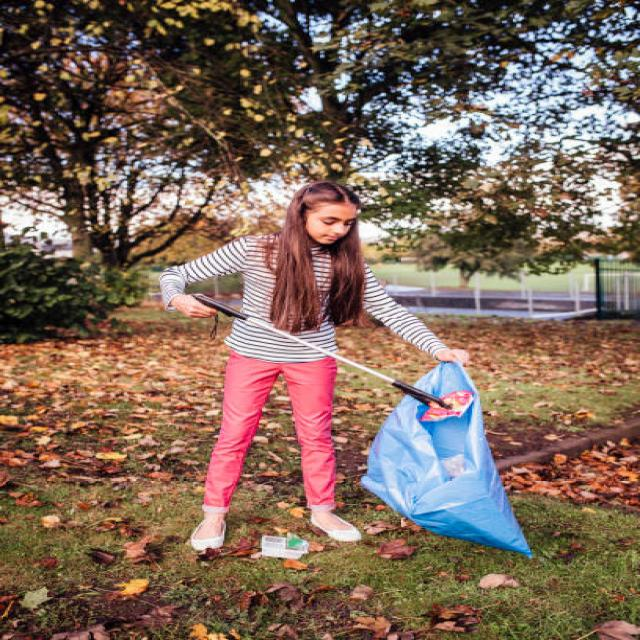trash: (360, 362, 570, 565)
